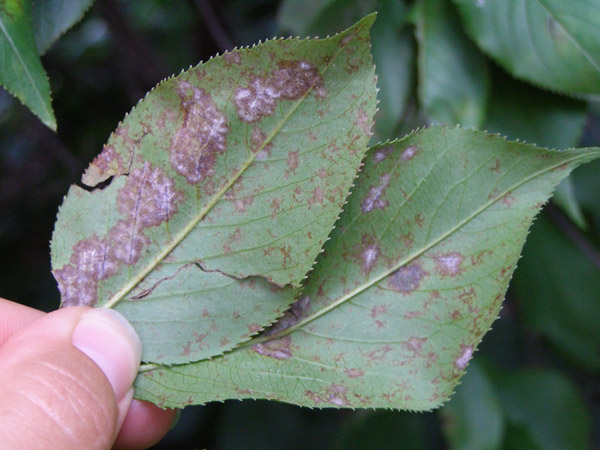unhealthy: (52, 28, 359, 353)
